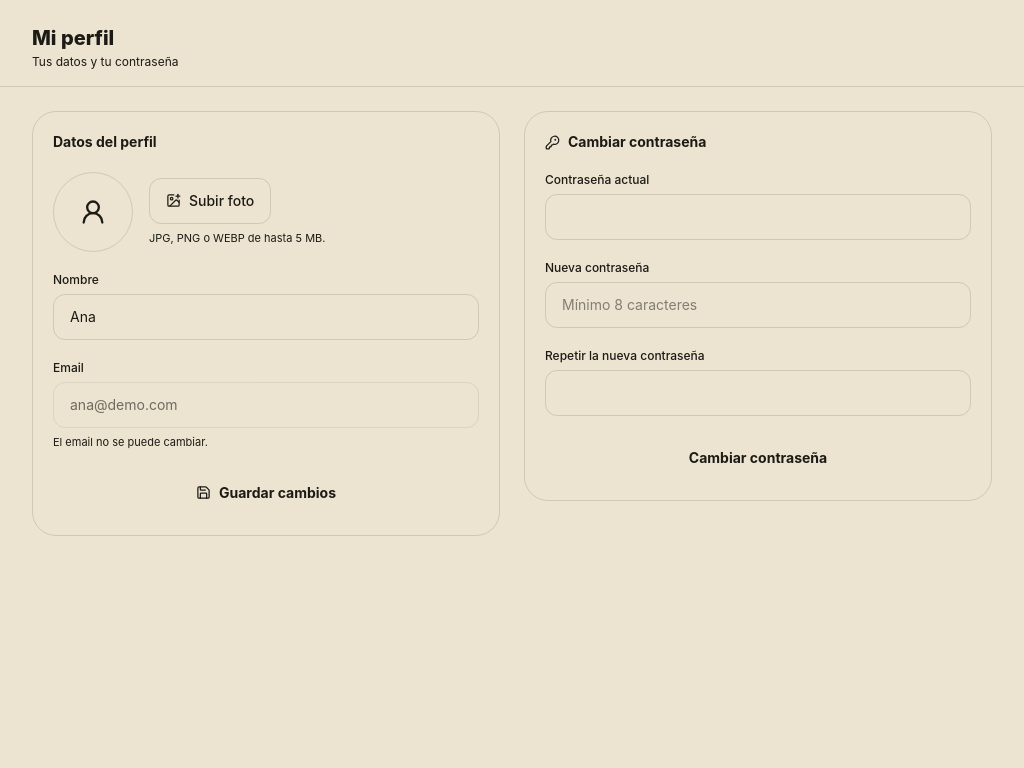
Test: OrganizadorPerfilPage — datos › no guarda un nombre vacío
Step 1. Clear the field labelled "Nombre" → (266, 317), box [53,294,479,340]
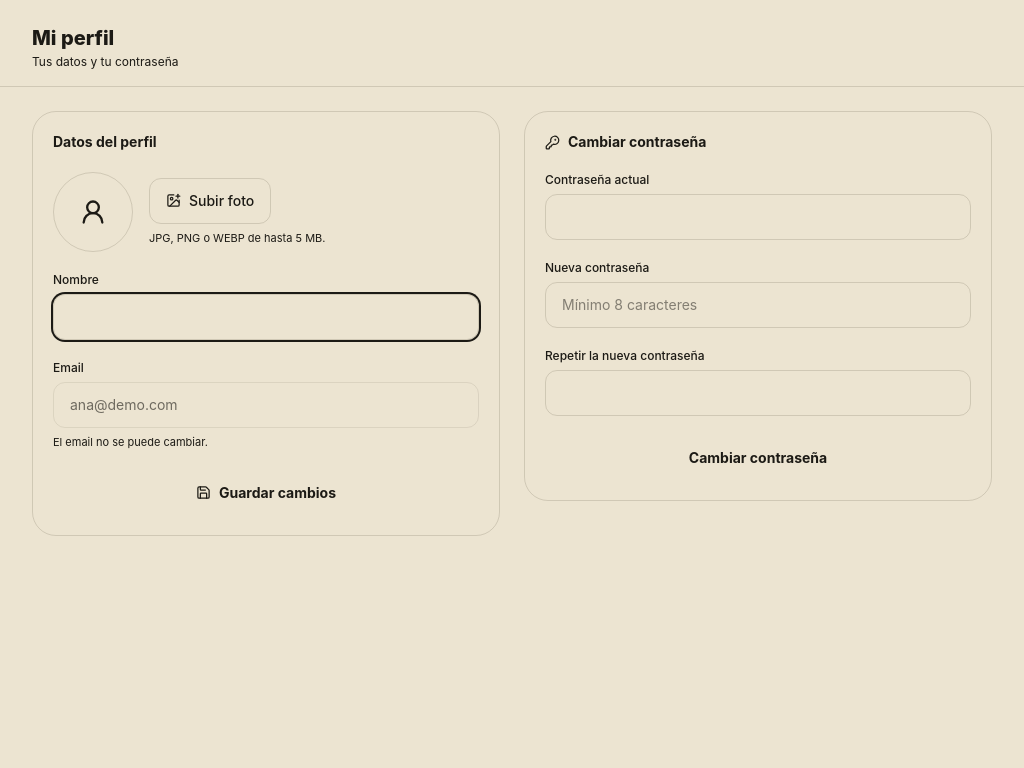
Step 2. Click the button "Guardar cambios" → (266, 492), box [53,470,479,514]
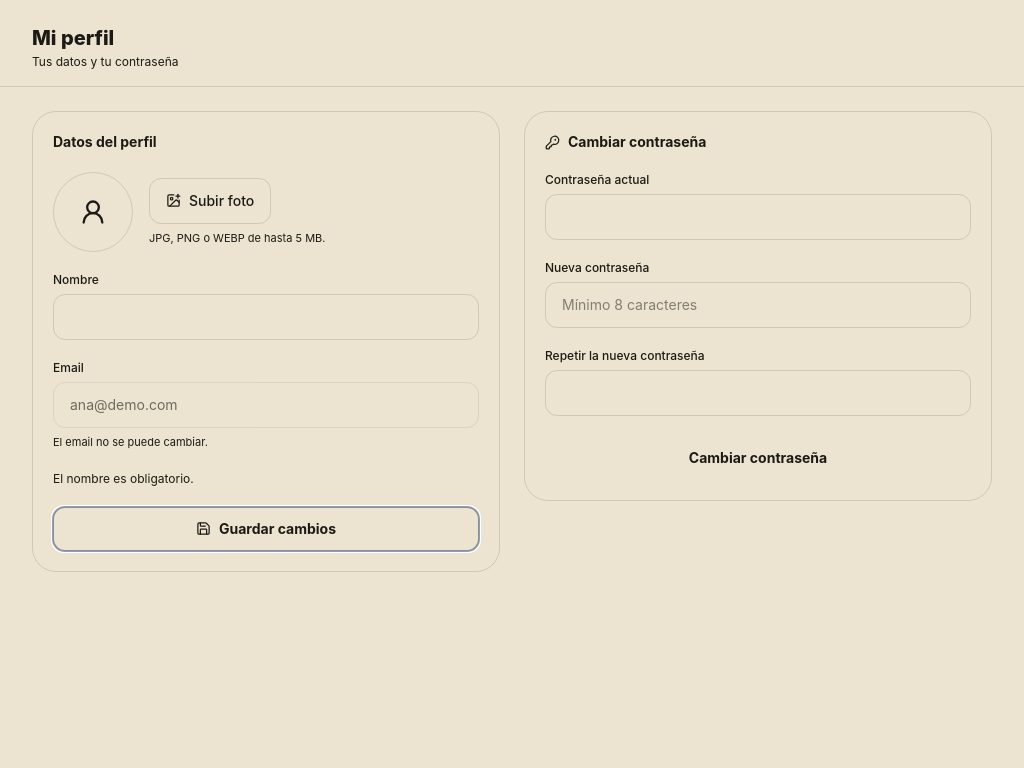
Expected: the text "El nombre es obligatorio." is shown, [53,470,194,486]
